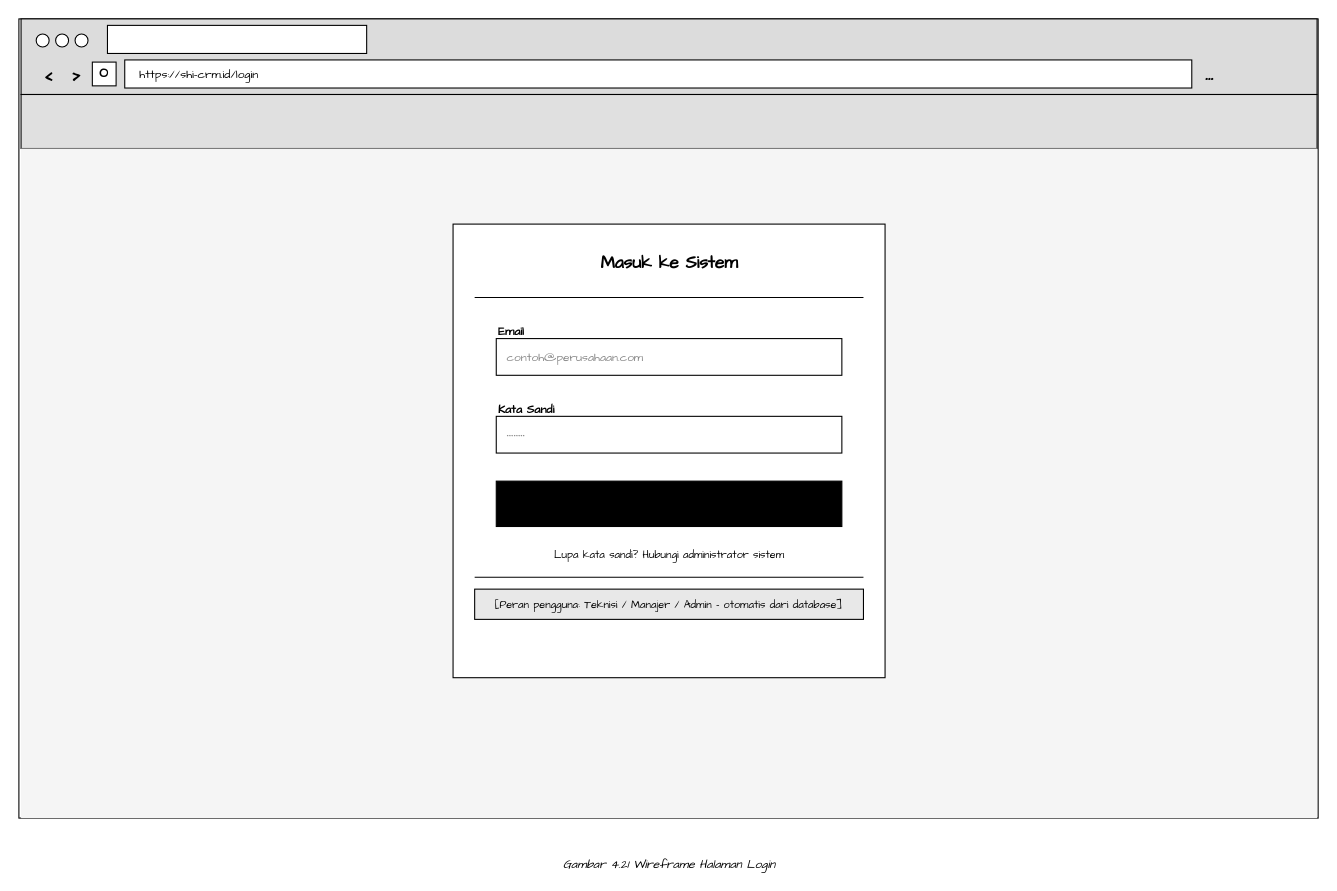
Image size: 1337x891. Some labels were removed from this diagram. The centre of each missing label's shape, as x and y in pixels:
"Login - SHI" belongs at point 236,38.
"Masuk" belongs at point 668,503.
"PT Smart Home Inovasi - Sistem Manajemen Proyek" belongs at point 668,120.
